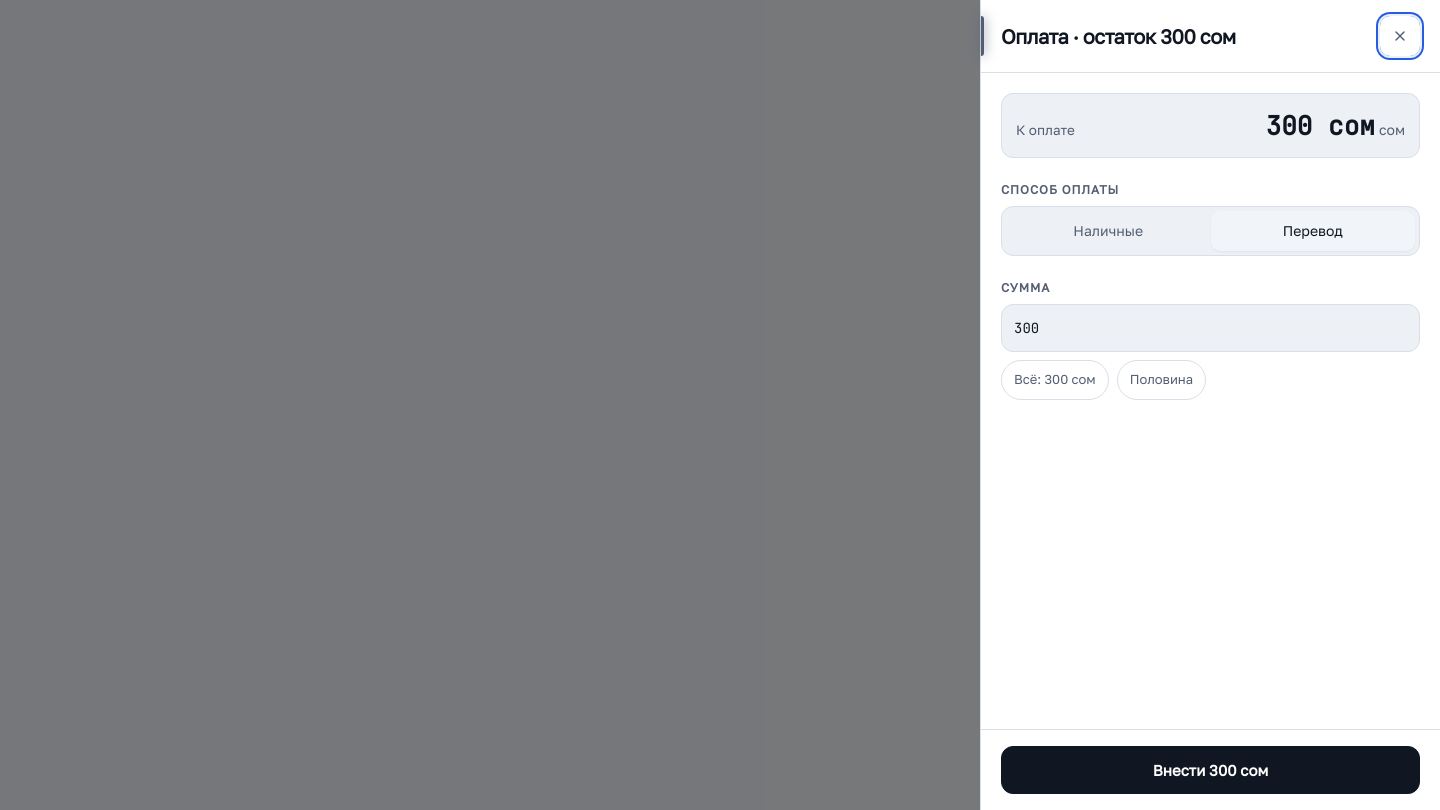
an amount larger than the balance (a typo such as 5000 instead of 500) › asks again if the amount is changed after the warning
The width and height of the screenshot is (1440, 810).
Step 1. Replace the text in the number field labelled "Сумма" with "5000" → (1210, 328), box [1001,304,1420,352]
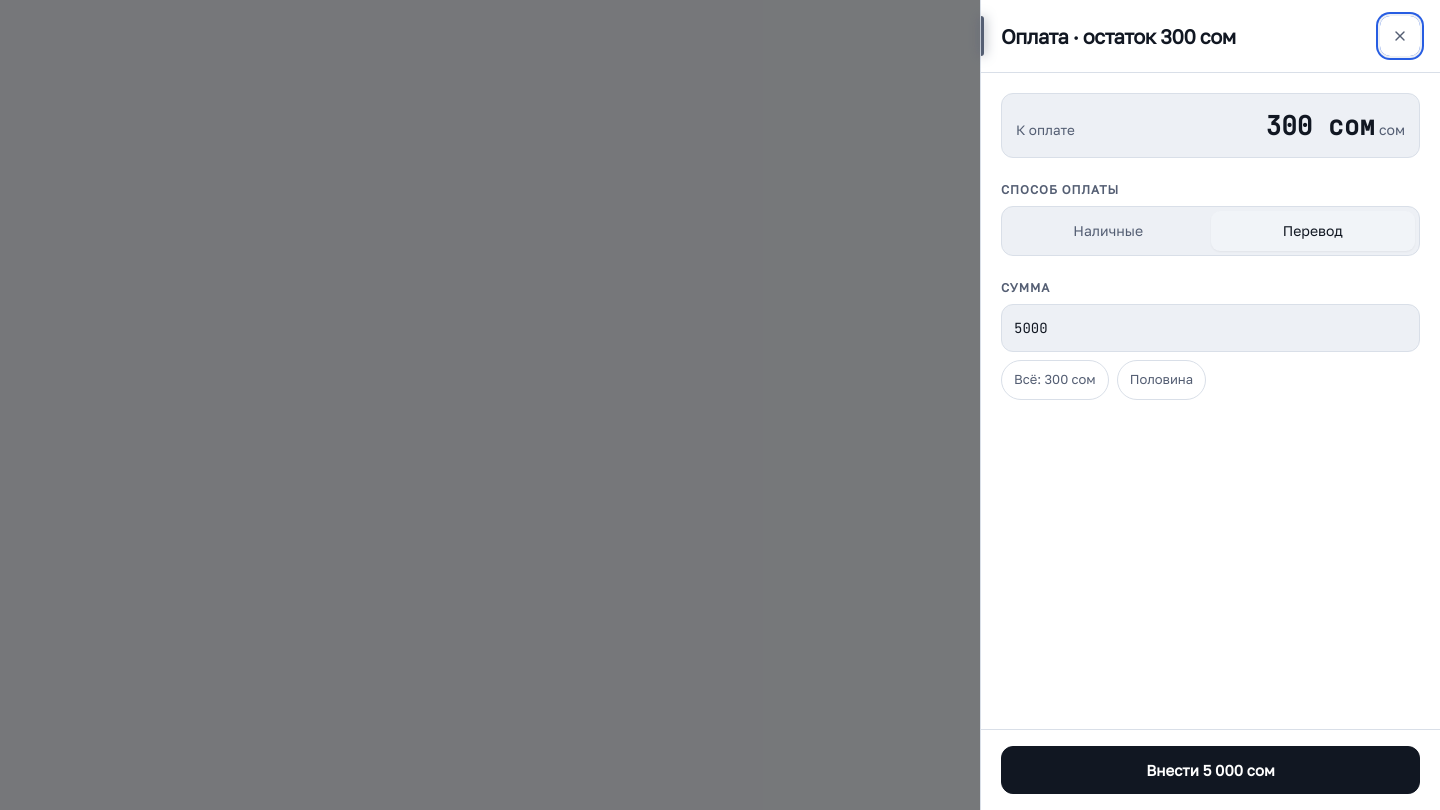
Step 2. Click the button "Внести 5 000 сом" → click(1210, 770), box [1001,746,1420,794]
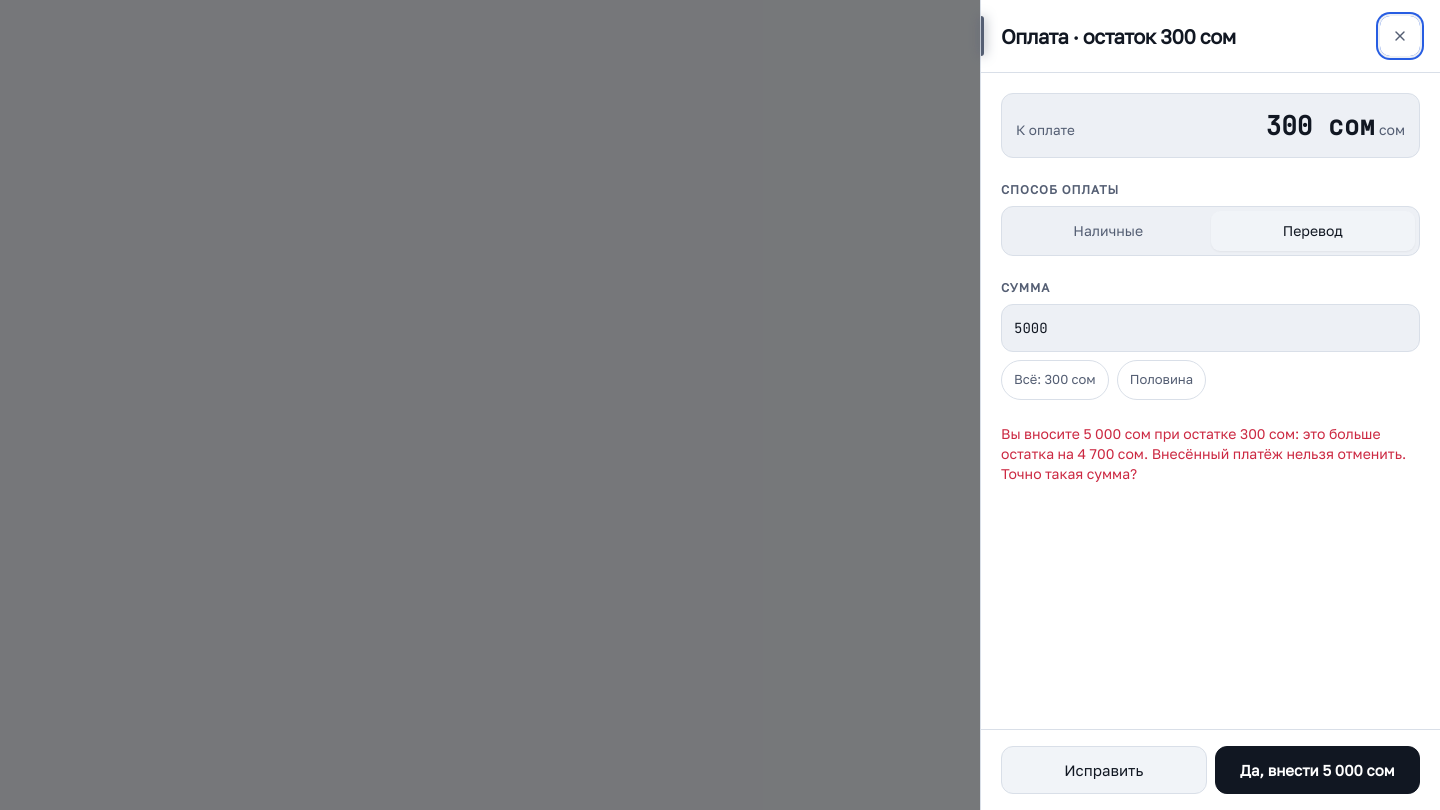
Step 3. Replace the text in the number field labelled "Сумма" with "4000" → (1210, 328), box [1001,304,1420,352]
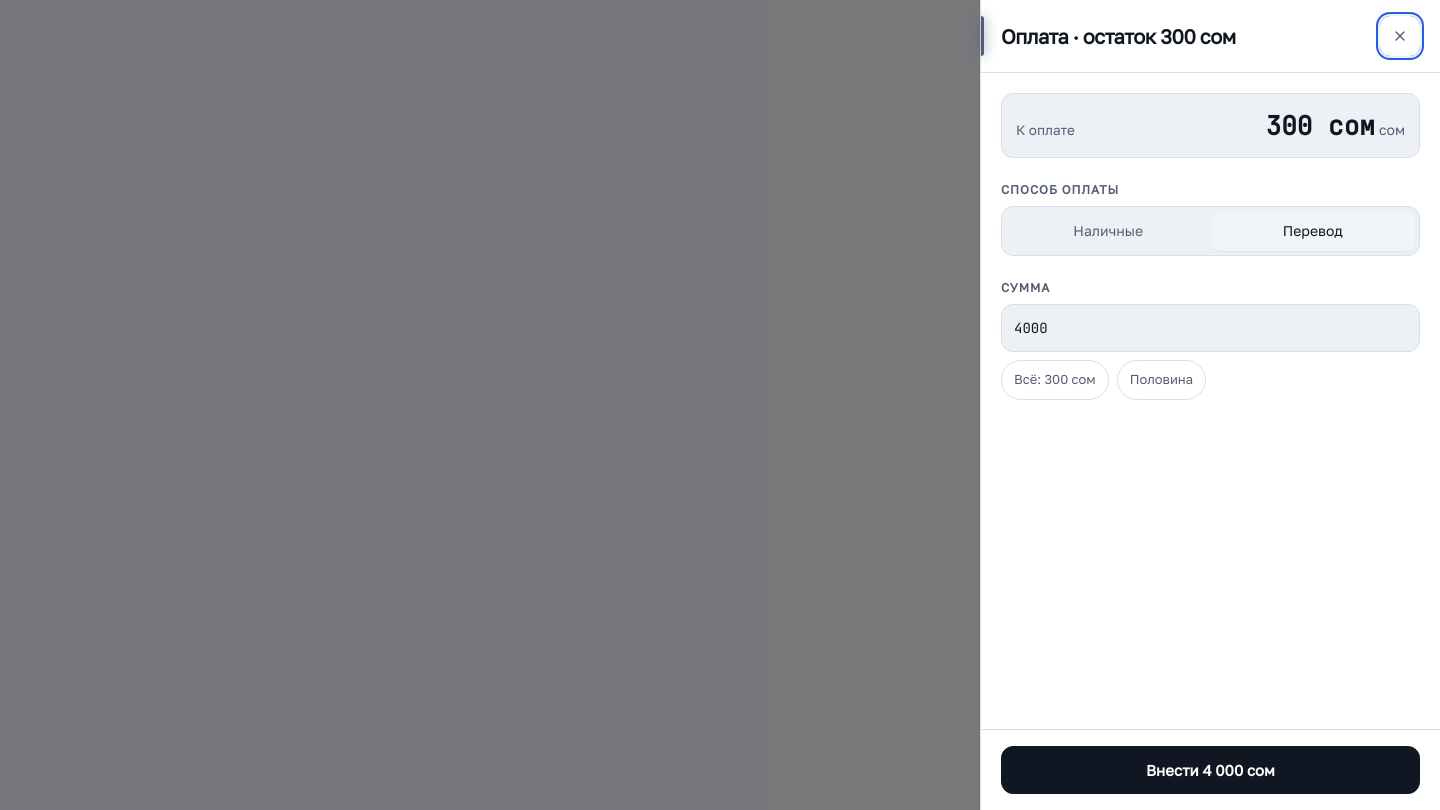
Result: the button "Да, внести" is gone
Result: the button "Внести 4 000 сом" is shown at [1001,746,1420,794]
